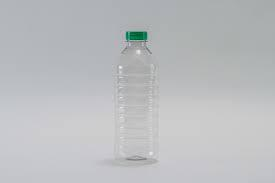bottle: (97, 24, 182, 174)
